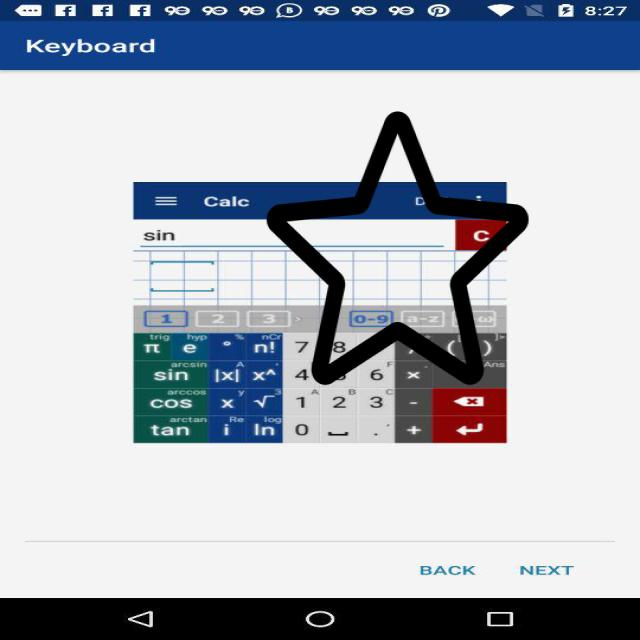forced continuity: (266, 105, 528, 391)
